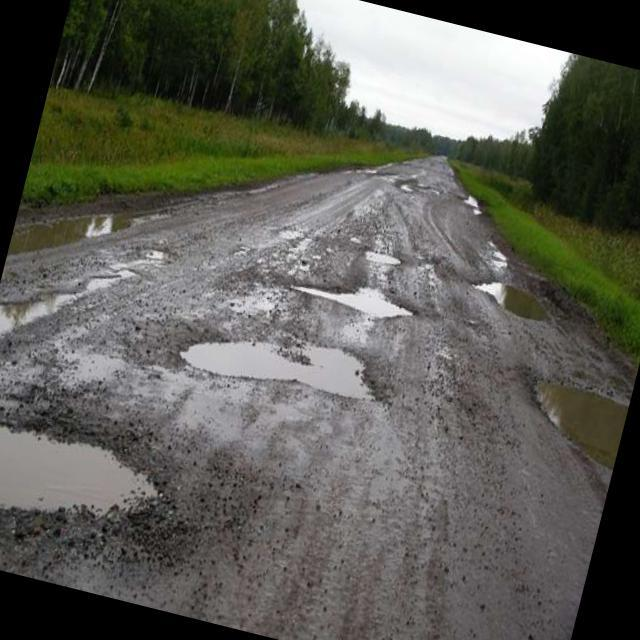Pothole: (0, 389, 165, 563), (176, 306, 395, 425), (518, 360, 634, 468), (289, 264, 428, 328), (463, 270, 548, 326), (82, 252, 148, 294), (136, 235, 174, 268), (362, 244, 406, 272)
